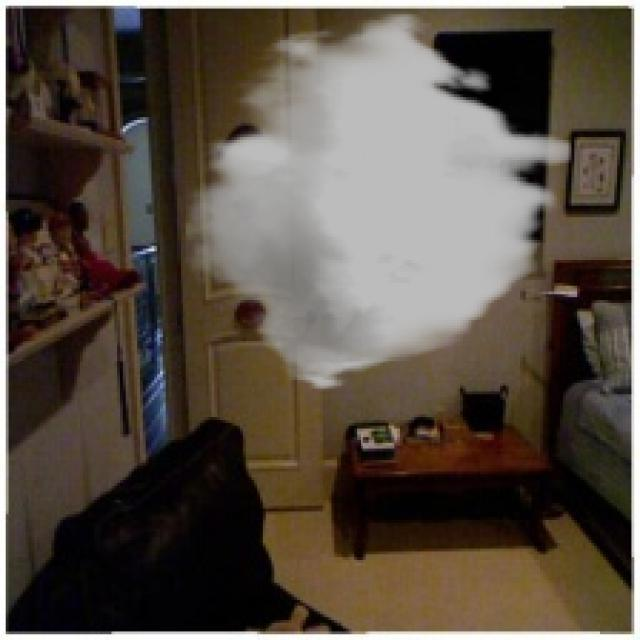Smoke: (186, 11, 572, 392)
